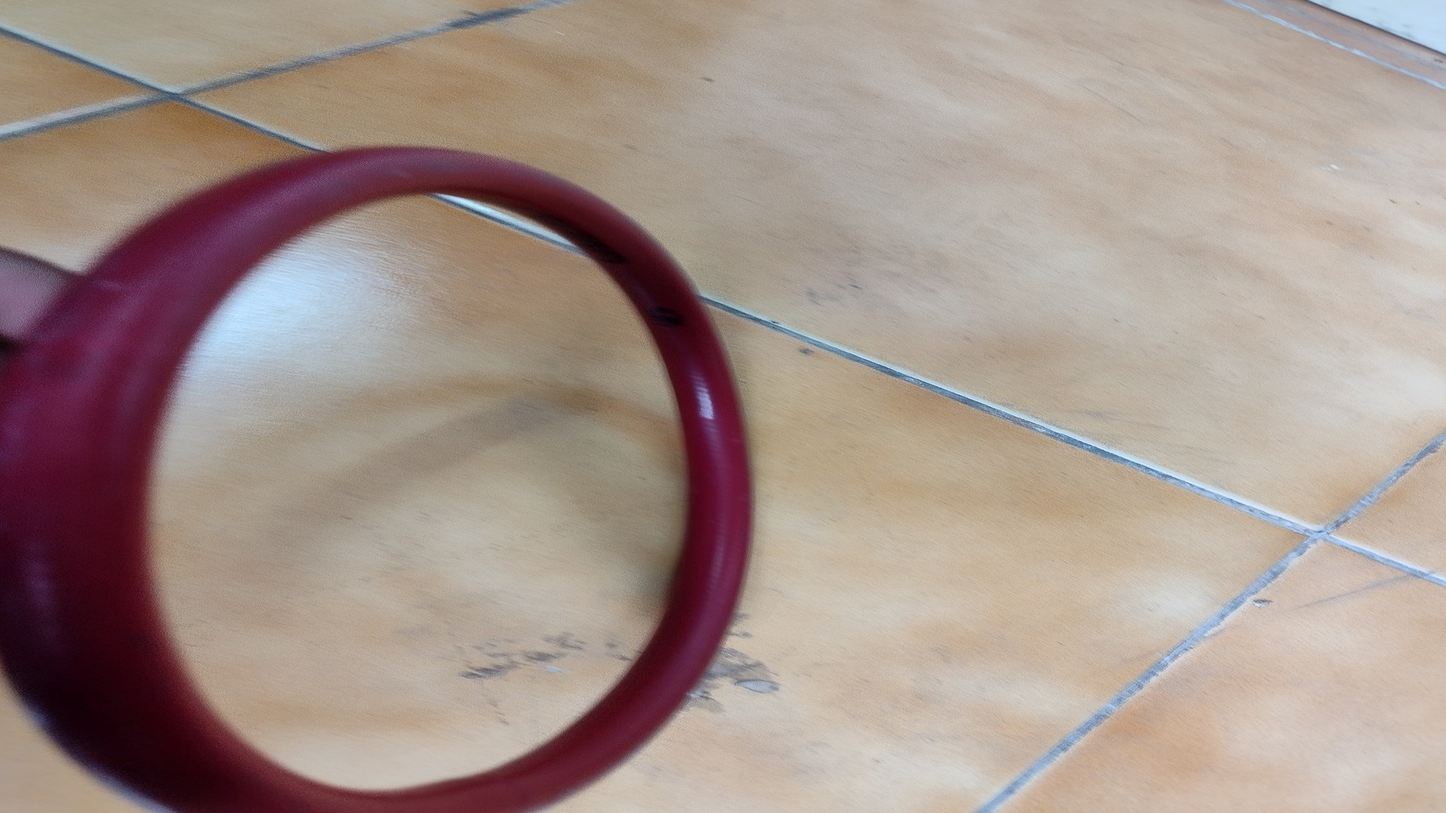Red ring: (32, 148, 755, 813)
